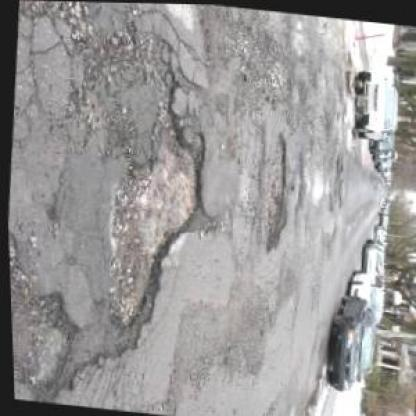pothole: (96, 98, 219, 344), (13, 284, 78, 395), (251, 126, 291, 250)
